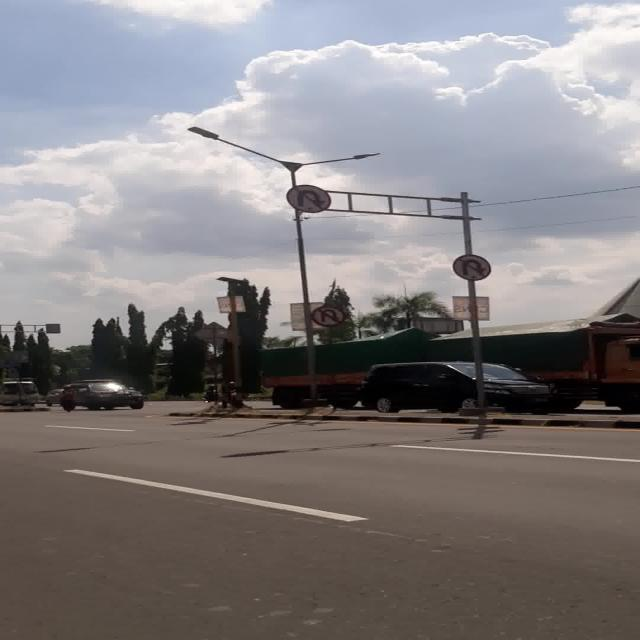Dilarang Putar Balik: (286, 184, 332, 213), (453, 254, 491, 280), (311, 306, 346, 327)
